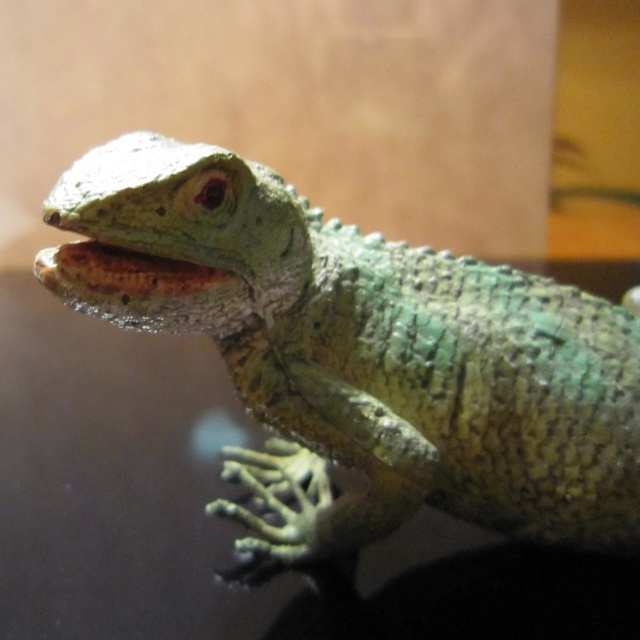Lizard: (33, 132, 639, 563)
